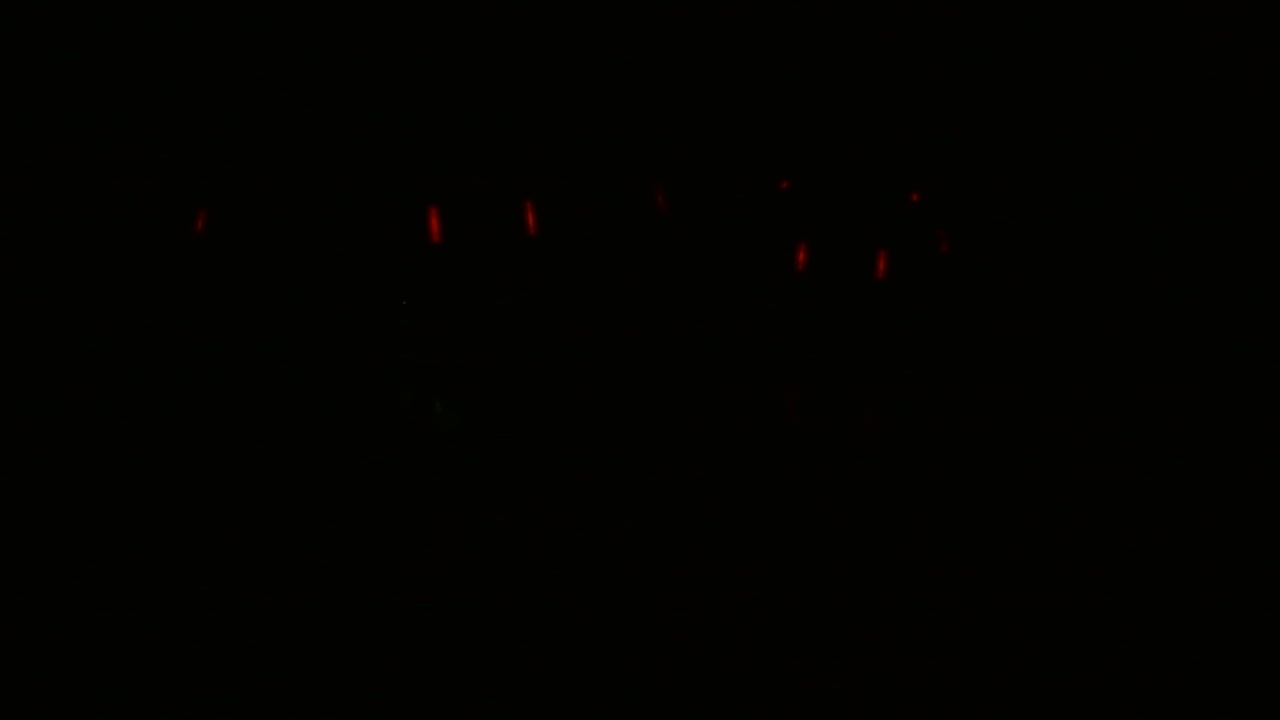pair1: (426, 195, 543, 254)
pair2: (785, 233, 899, 286)
